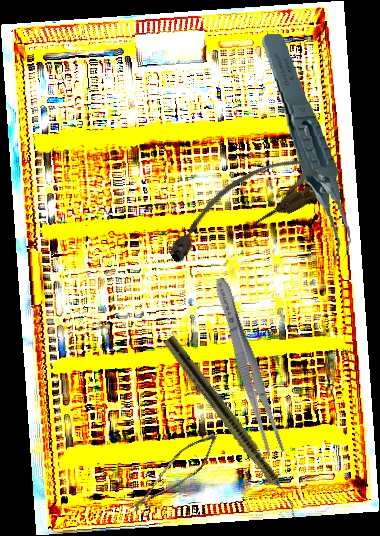Cannula: (154, 148, 321, 273)
Dressing Forceps: (208, 274, 288, 458)
Handpiece: (160, 334, 306, 519)
Micro Scissor: (128, 420, 223, 530)
Tissue Forceps: (260, 28, 353, 268)
